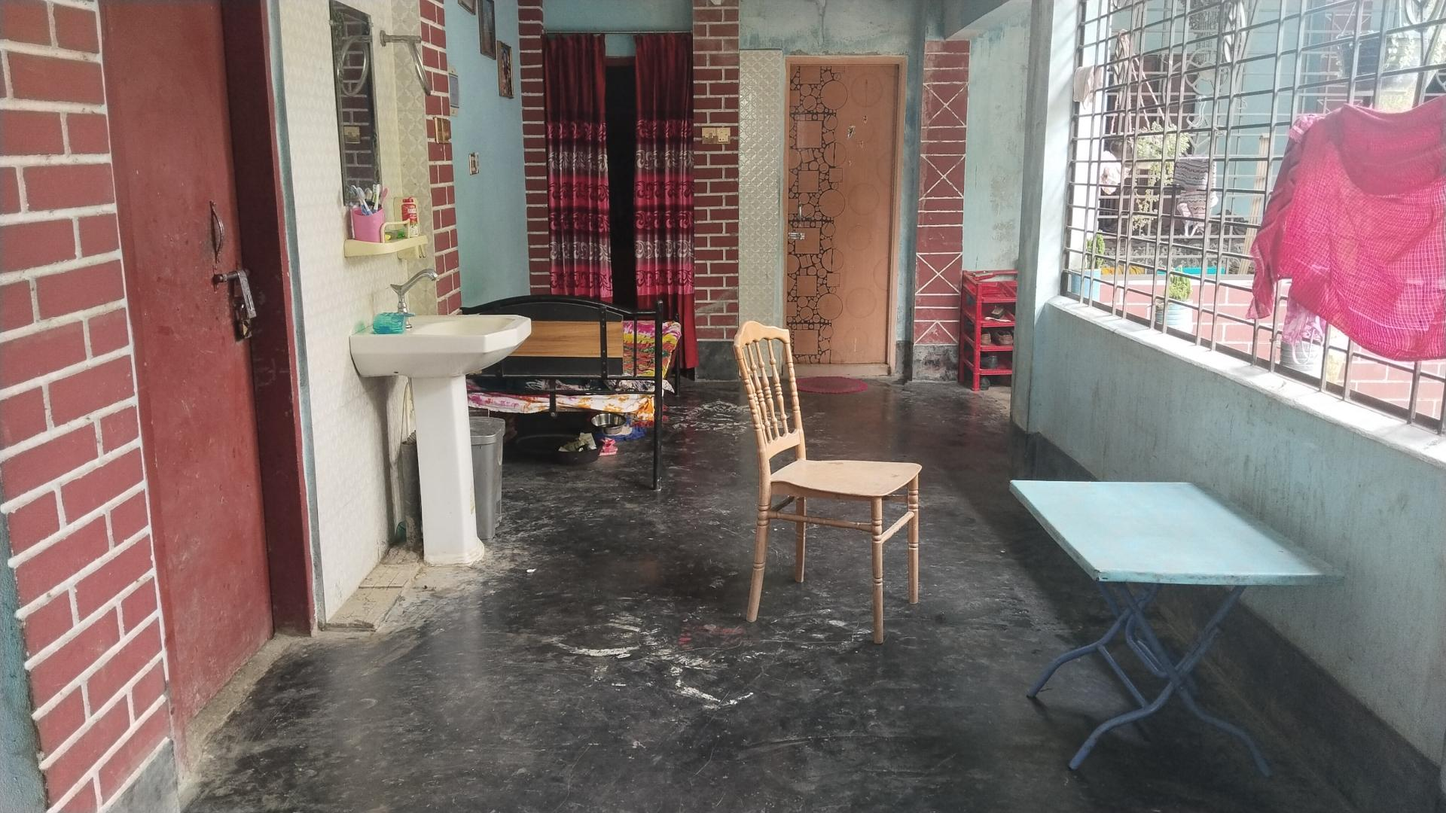Chair: (731, 318, 926, 635)
Door: (782, 56, 896, 368)
Table: (1007, 473, 1342, 767)
